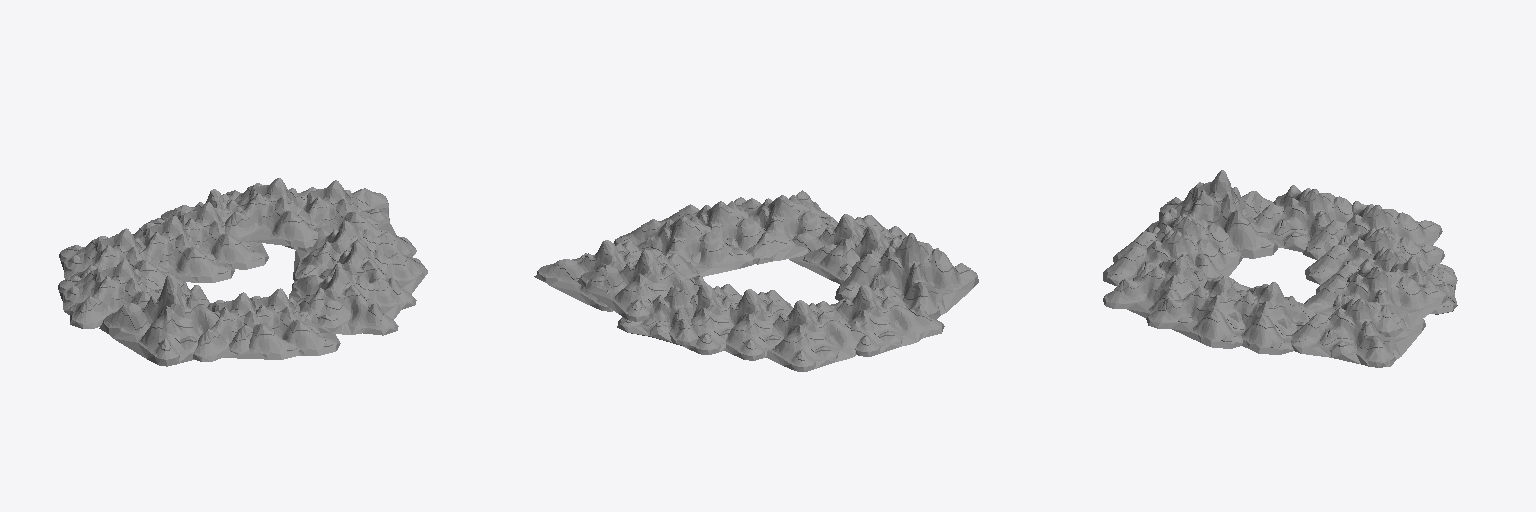
File: SM_Env_MountainSnow.obj
The picture shows the model from 3 angles: view 1: azimuth 30°, elevation 25°; view 2: azimuth 150°, elevation 25°; view 3: azimuth 270°, elevation 25°; orthographic projection.
Visible parts, largest first — view 1: SM_Env_MountainSnow; view 2: SM_Env_MountainSnow; view 3: SM_Env_MountainSnow.
Part boxes in pixels (x1,y1,x2,y2): SM_Env_MountainSnow: (58,178,427,366); SM_Env_MountainSnow: (534,190,978,371); SM_Env_MountainSnow: (1103,170,1457,367).
Size of the model in its own units: 347 by 55.37 by 296.